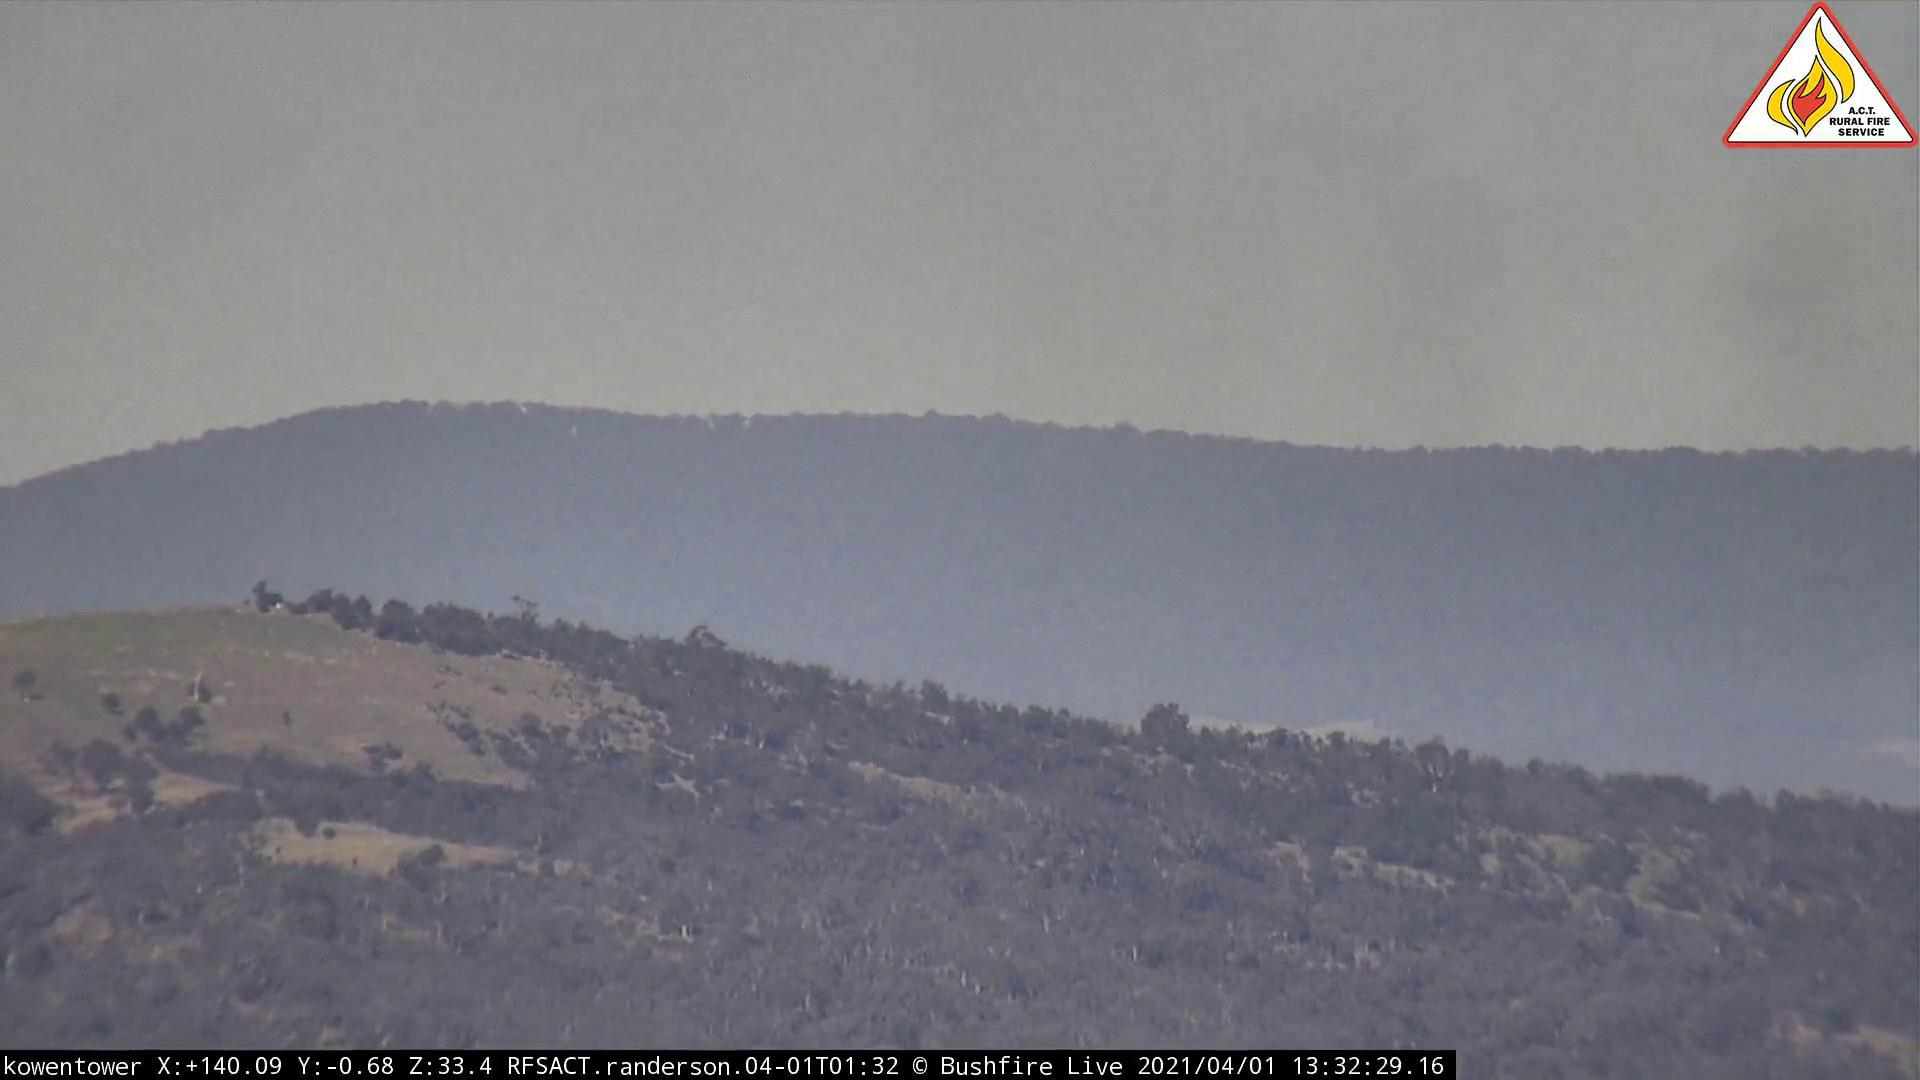Smoke: (932, 40, 1611, 434)
